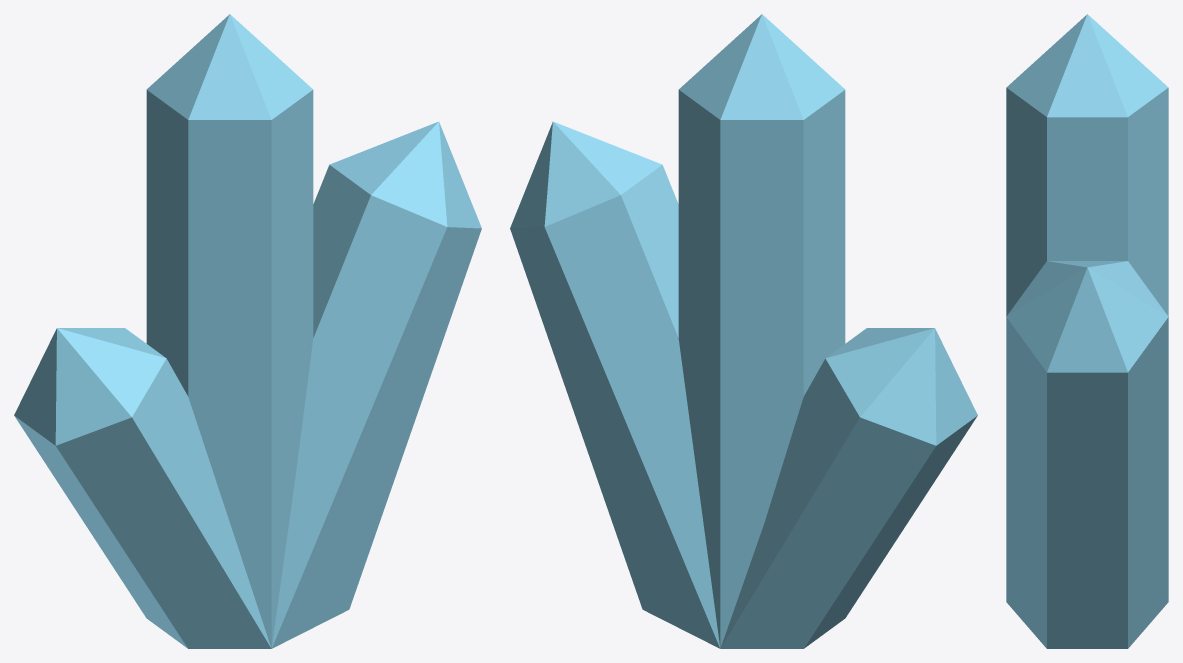
Rendered from light_blue_cave_crystal.obj.
The picture shows the model from 3 angles, left to right: view 1: azimuth 30°, elevation 25°; view 2: azimuth 150°, elevation 25°; view 3: azimuth 270°, elevation 25°; orthographic projection. The views are drawn at different scales.
Parts seen in each view (by area): view 1: main; view 2: main; view 3: main.
Part boxes in pixels (x1=…): main: x1=14, y1=14, x2=481, y2=648; main: x1=510, y1=14, x2=977, y2=648; main: x1=1006, y1=14, x2=1168, y2=648.
Size of the model in its own units: 0.7381 by 1 by 0.25.
